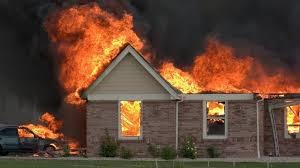fire: (16, 110, 78, 157), (118, 98, 142, 136)
